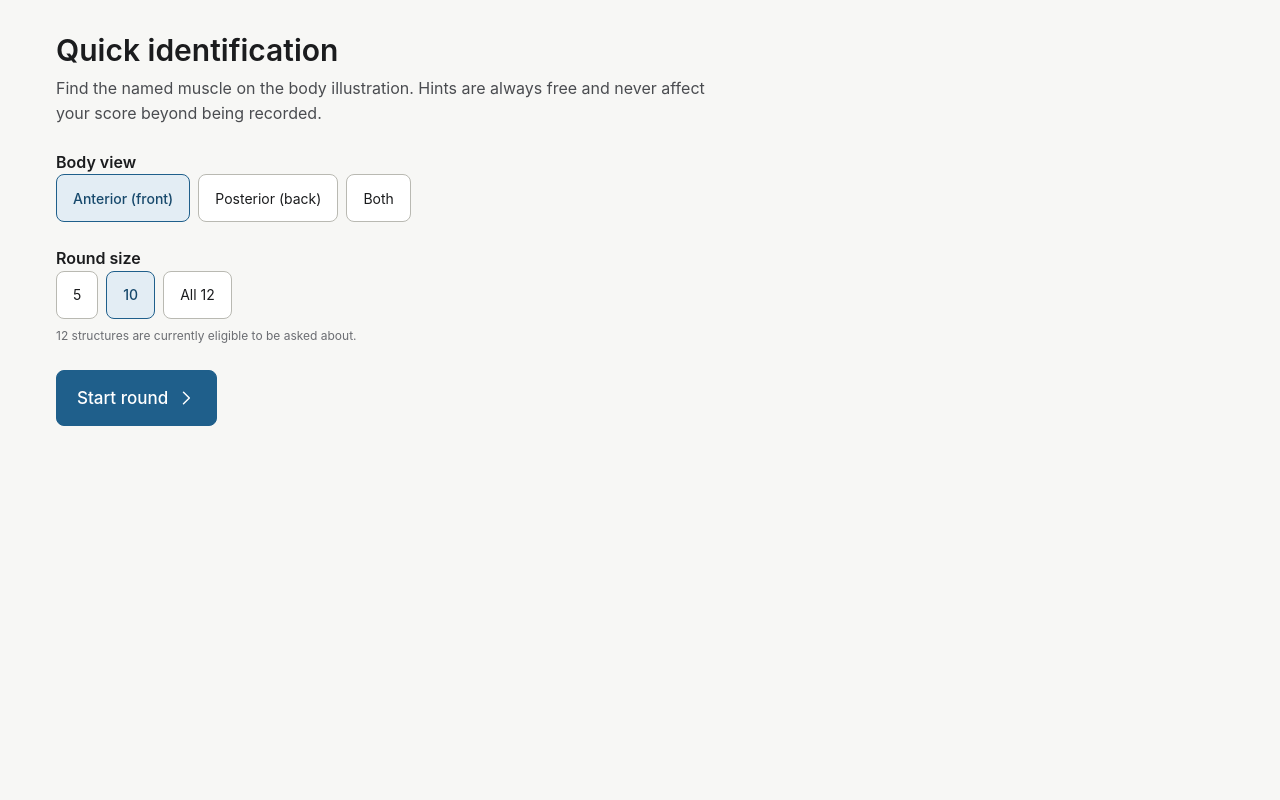
Test: Identify mode with published content › offers a skip that is recorded without penalising the learner
Step 1. Click the button "Start round" → (137, 398), box left=56, top=370, right=217, bottom=426
(page scrolled)
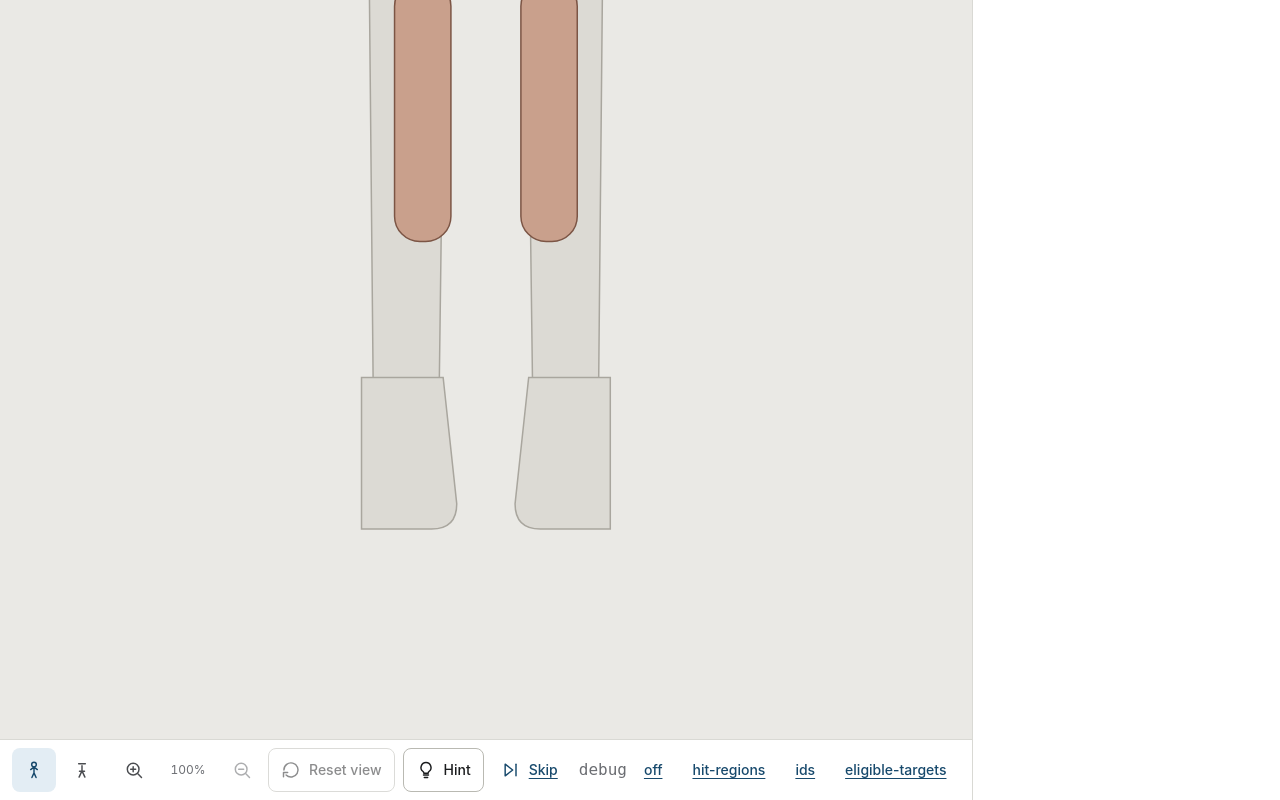
Step 2. Click the button "Skip" → (529, 770), box left=488, top=748, right=571, bottom=792
(page scrolled)
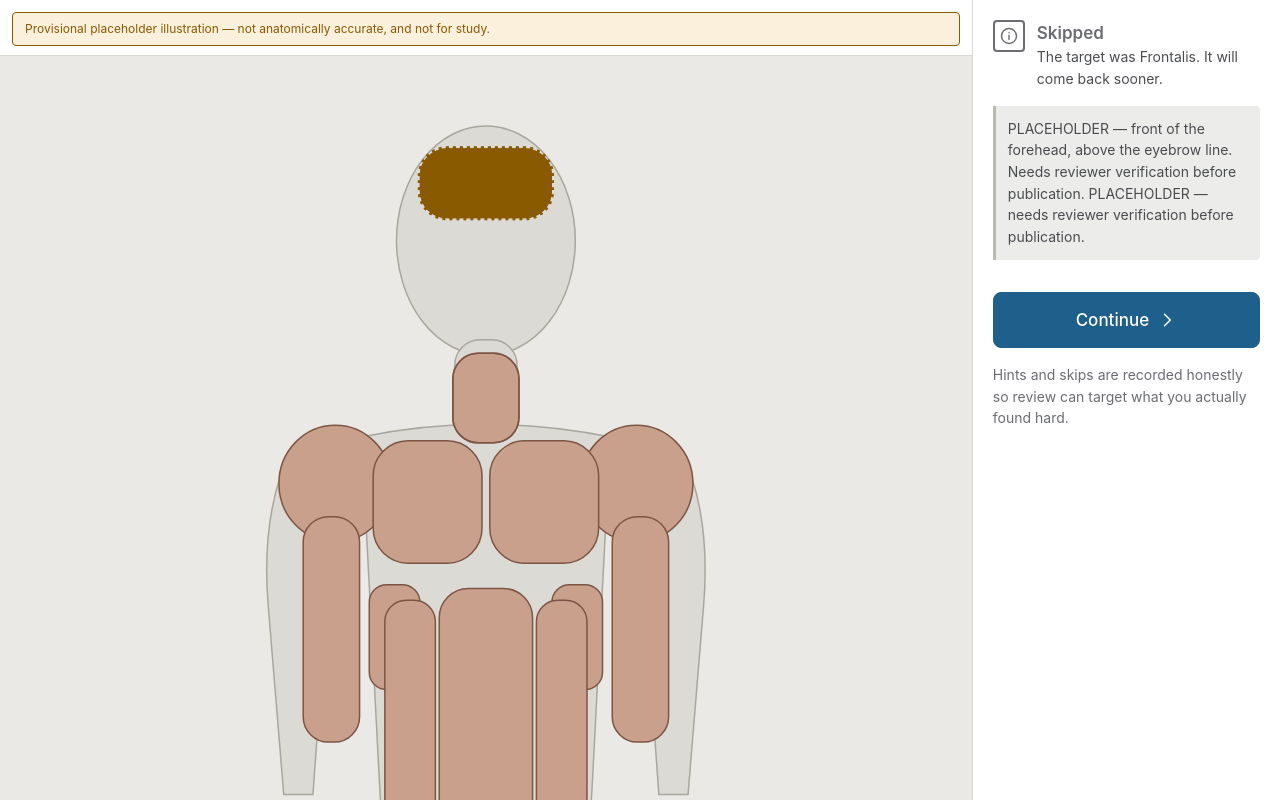
Expected: the text "Skipped" is shown, left=1036, top=22, right=1108, bottom=43
Expected: the text "The target was Frontalis. It will come back sooner." is shown, left=1037, top=46, right=1260, bottom=90
